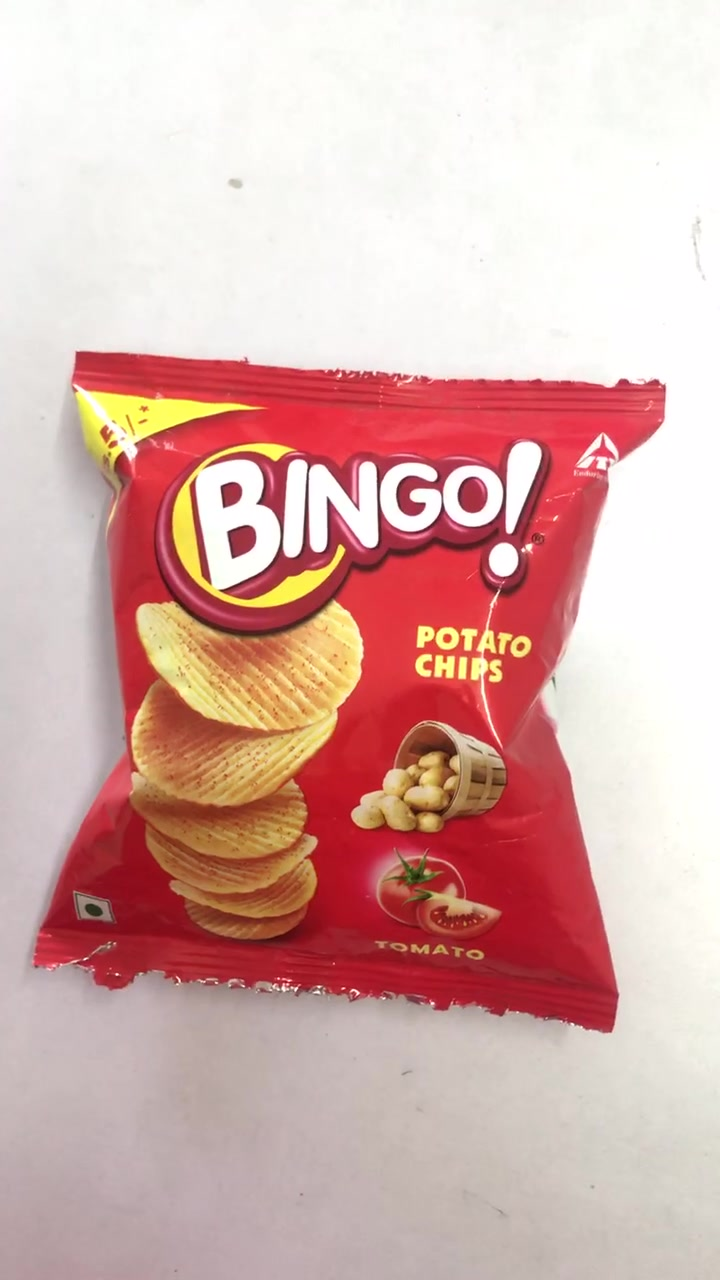Bingo: (39, 352, 666, 1035)
